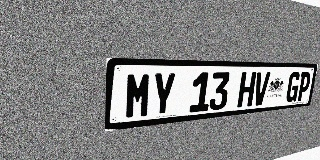1: (189, 72, 212, 113)
3: (209, 72, 230, 111)
G: (285, 72, 301, 103)
H: (237, 72, 257, 108)
M: (124, 72, 152, 120)
P: (296, 72, 312, 101)
V: (252, 72, 271, 106)
Y: (150, 72, 176, 117)
